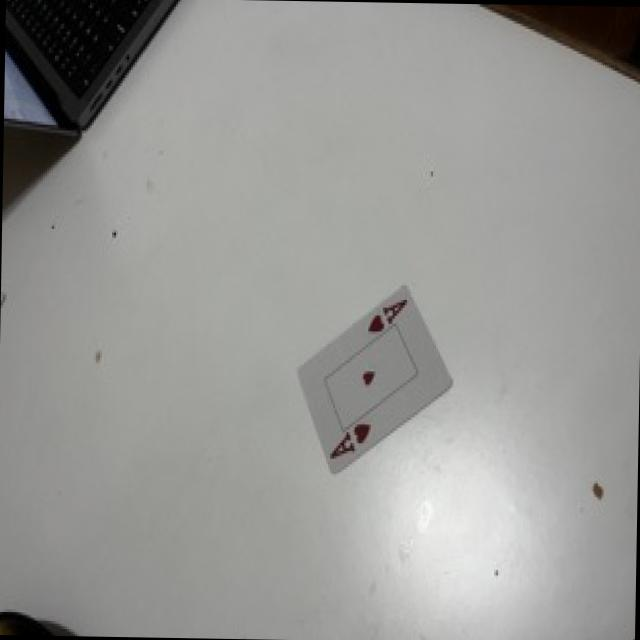Ace of hearts: (298, 285, 450, 470)
